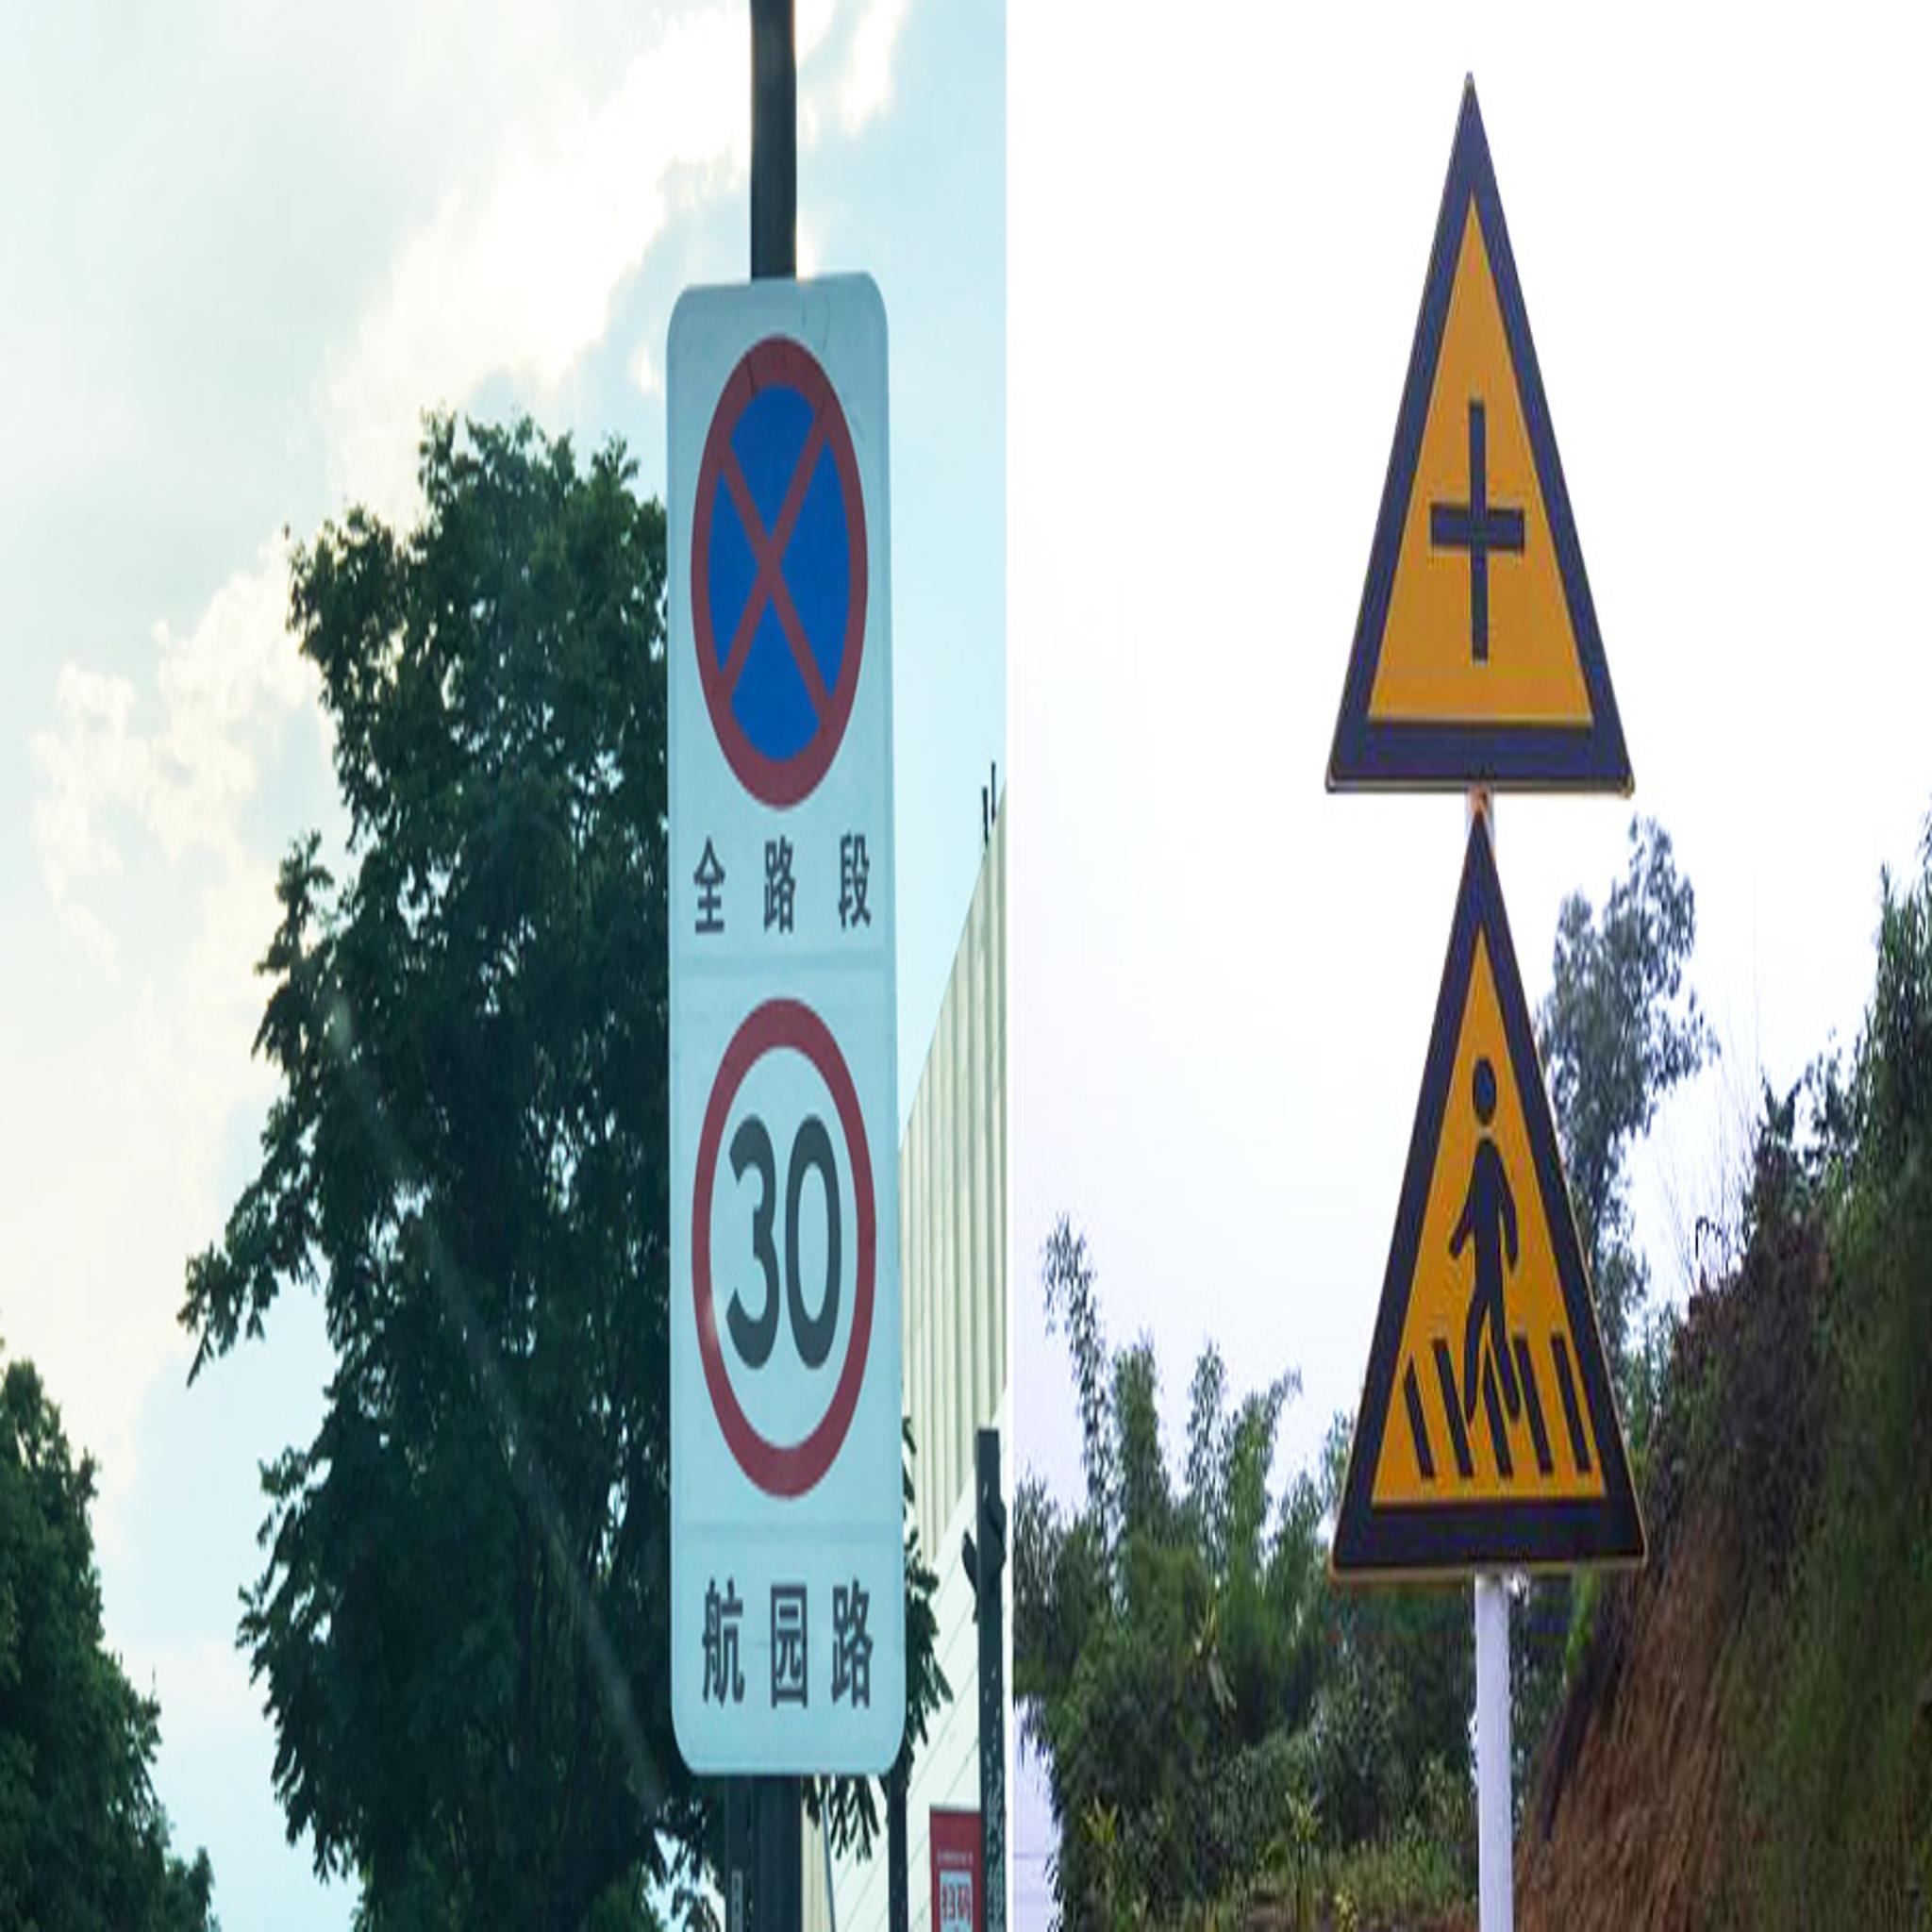pl30: (685, 993, 874, 1499)
pn: (688, 331, 856, 807)
w13: (1325, 74, 1638, 803)
w57: (1325, 816, 1656, 1578)
